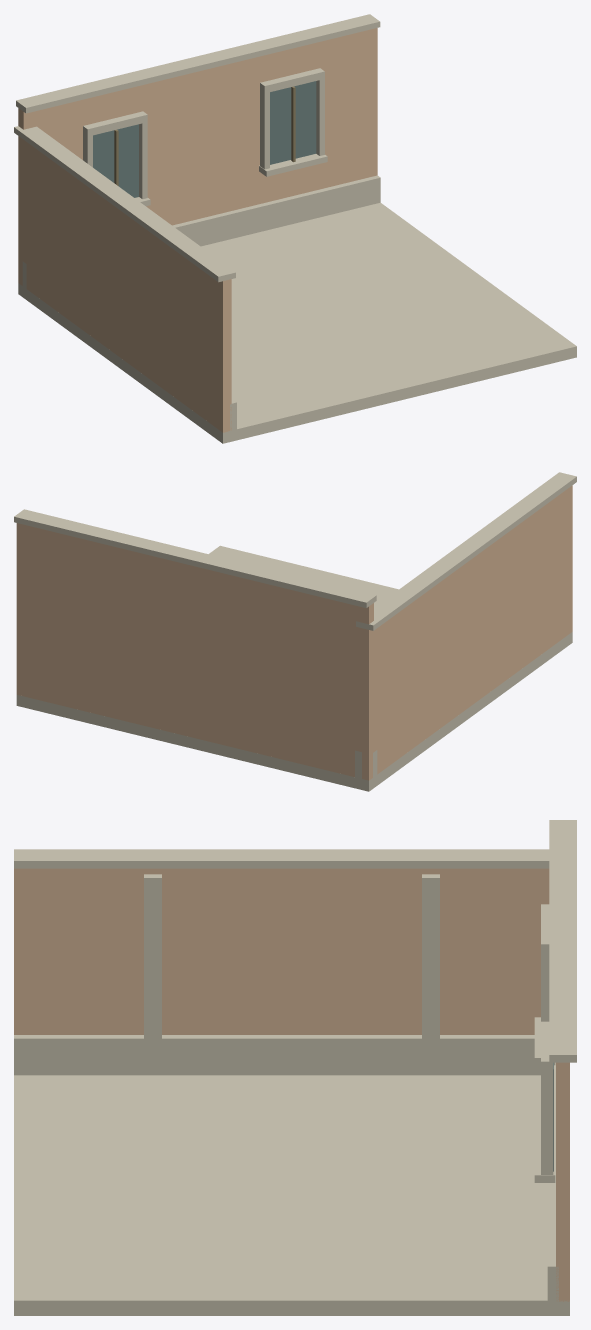
File: district-0-0-1.glb
3 views of the same model, one above another, from view 1: azimuth 30°, elevation 25°; view 2: azimuth 150°, elevation 25°; view 3: azimuth 270°, elevation 25° (orthographic). The views are drawn at different scales.
Parts seen in each view (by area): view 1: stone.009, plaster.008, glass.003, wood.004; view 2: plaster.008, stone.009; view 3: stone.009, plaster.008.
Part boxes in pixels (left/top/right/bottom): stone.009: left=14, top=14, right=576, bottom=443; plaster.008: left=18, top=28, right=377, bottom=432; glass.003: left=93, top=81, right=316, bottom=197; wood.004: left=114, top=86, right=295, bottom=185; plaster.008: left=16, top=485, right=572, bottom=780; stone.009: left=14, top=472, right=576, bottom=791; stone.009: left=14, top=820, right=576, bottom=1315; plaster.008: left=14, top=868, right=569, bottom=1301.
Bounding box in the file's own units: 8.1 × 4.14 × 8.1.
